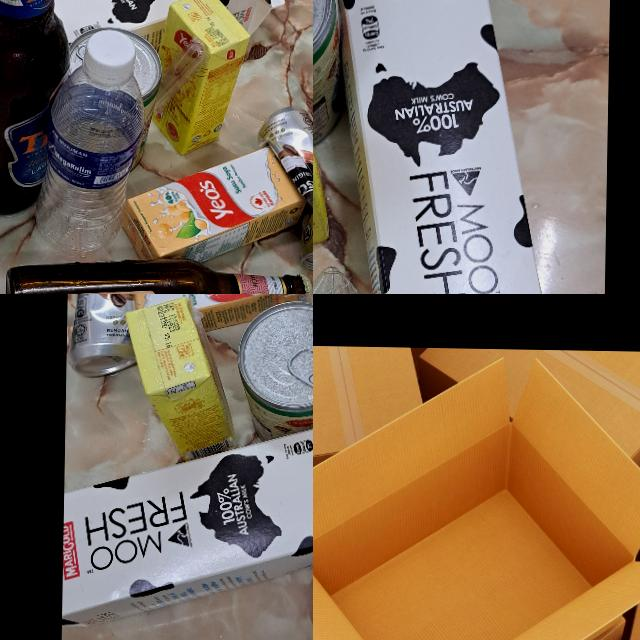aba de lata: (286, 346, 313, 392)
caixinha: (326, 0, 557, 294), (60, 411, 313, 637), (116, 145, 306, 264), (123, 296, 238, 460), (147, 0, 248, 156), (48, 0, 285, 52), (127, 294, 310, 332)
garrafa de vidro: (0, 0, 73, 217), (3, 254, 313, 294)
garrafa plástica: (313, 353, 640, 640), (32, 65, 144, 262)
lata: (66, 27, 160, 173), (234, 300, 313, 442), (255, 106, 313, 272), (68, 294, 152, 379)
tampa plástica: (84, 30, 135, 84)
